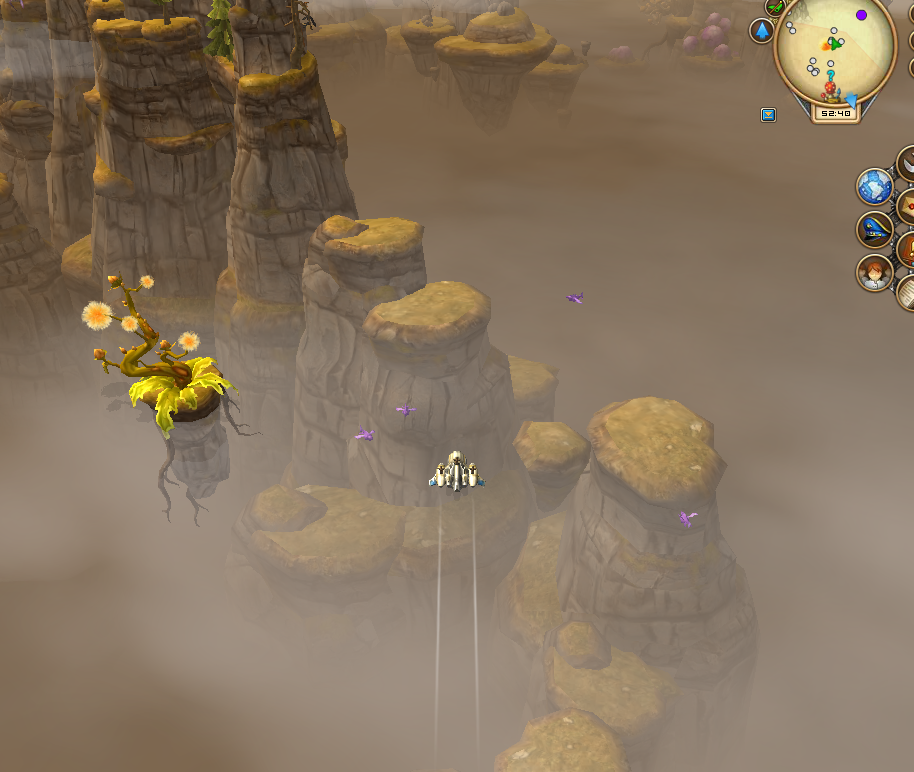dandelion-full: (75, 271, 249, 507)
